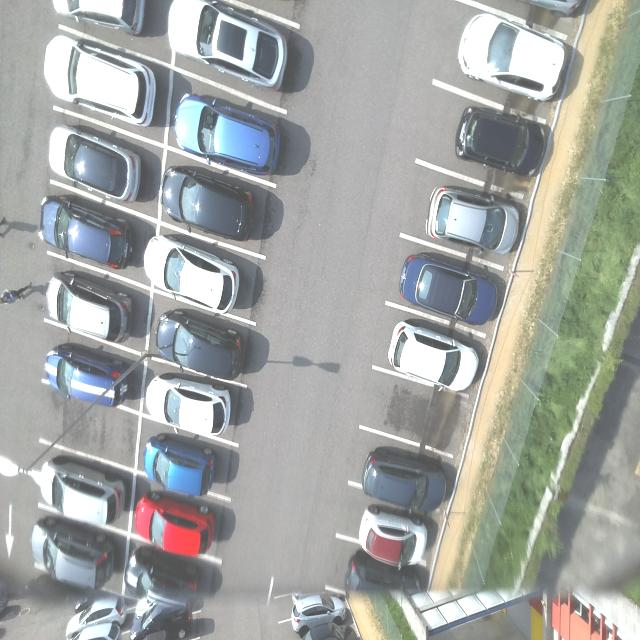car: (167, 1, 291, 93), (45, 33, 158, 131), (457, 11, 570, 104), (176, 92, 281, 174), (397, 251, 503, 331), (145, 231, 243, 317), (47, 124, 145, 204), (457, 100, 549, 185), (39, 192, 136, 271), (427, 181, 522, 261), (155, 309, 253, 386), (161, 166, 257, 244), (384, 323, 483, 392), (26, 522, 118, 592), (359, 449, 453, 516), (36, 461, 126, 530), (46, 274, 132, 346), (147, 372, 233, 443), (44, 347, 135, 408), (134, 492, 218, 558), (347, 507, 430, 567), (147, 433, 220, 499)
free_space: (358, 358, 474, 462), (37, 374, 140, 484)
